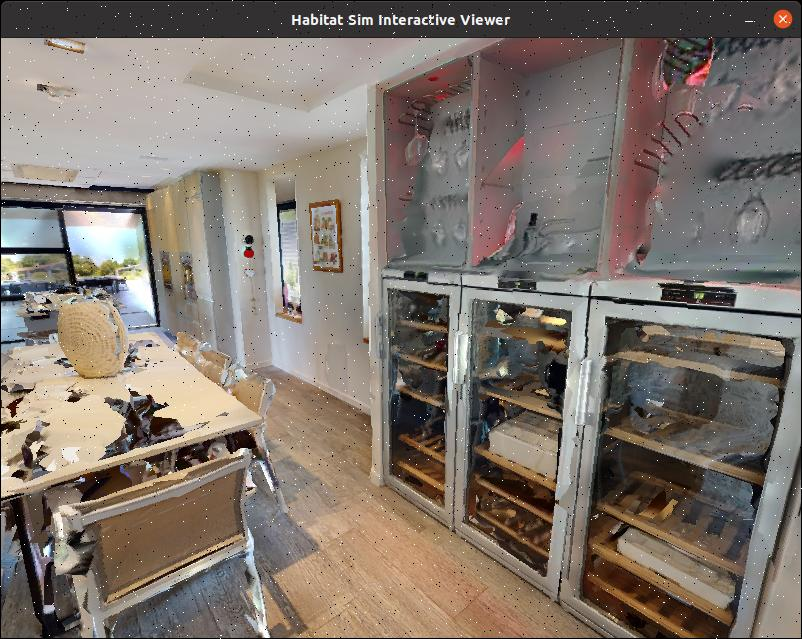chair: (45, 443, 289, 639)
table: (0, 271, 274, 508)
